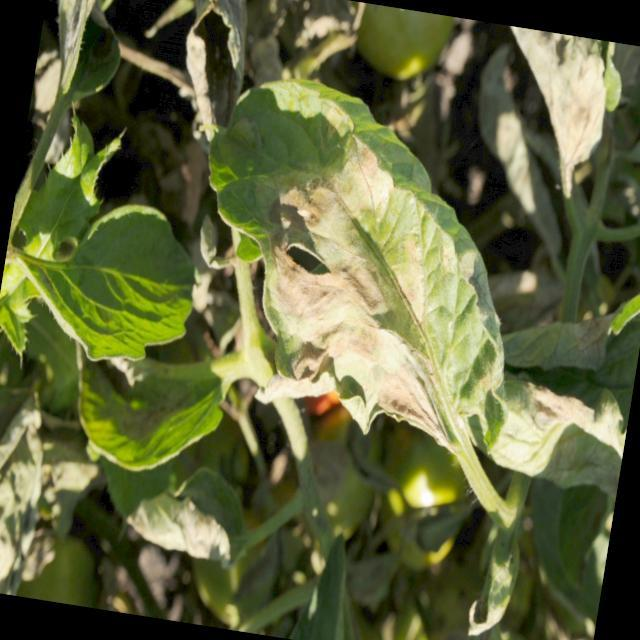Tomato late blight leaf: (177, 53, 539, 461)
